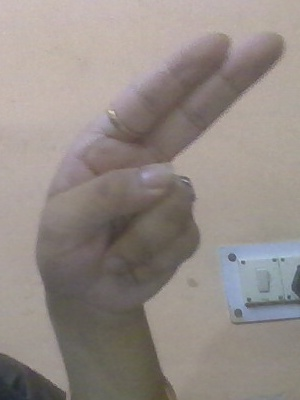H: (20, 15, 289, 315)
